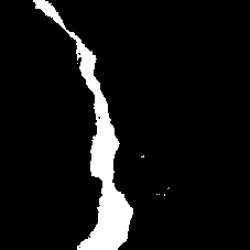crack: (33, 1, 132, 248)
